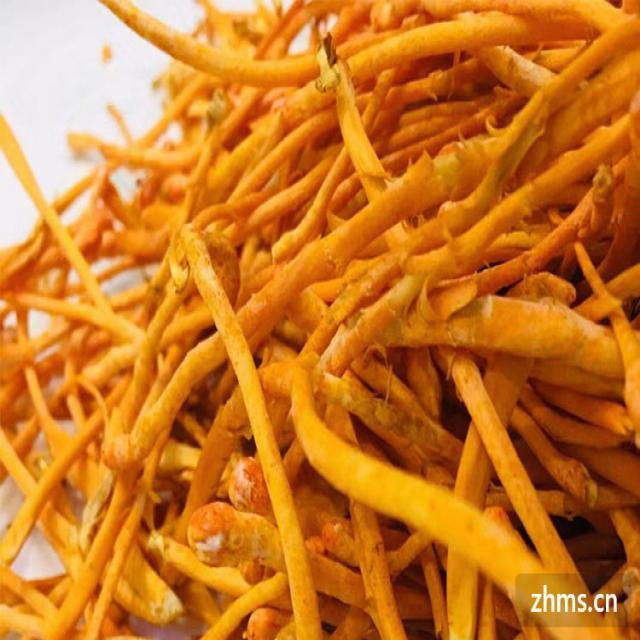Cordyceps militaris: (0, 0, 639, 632)
